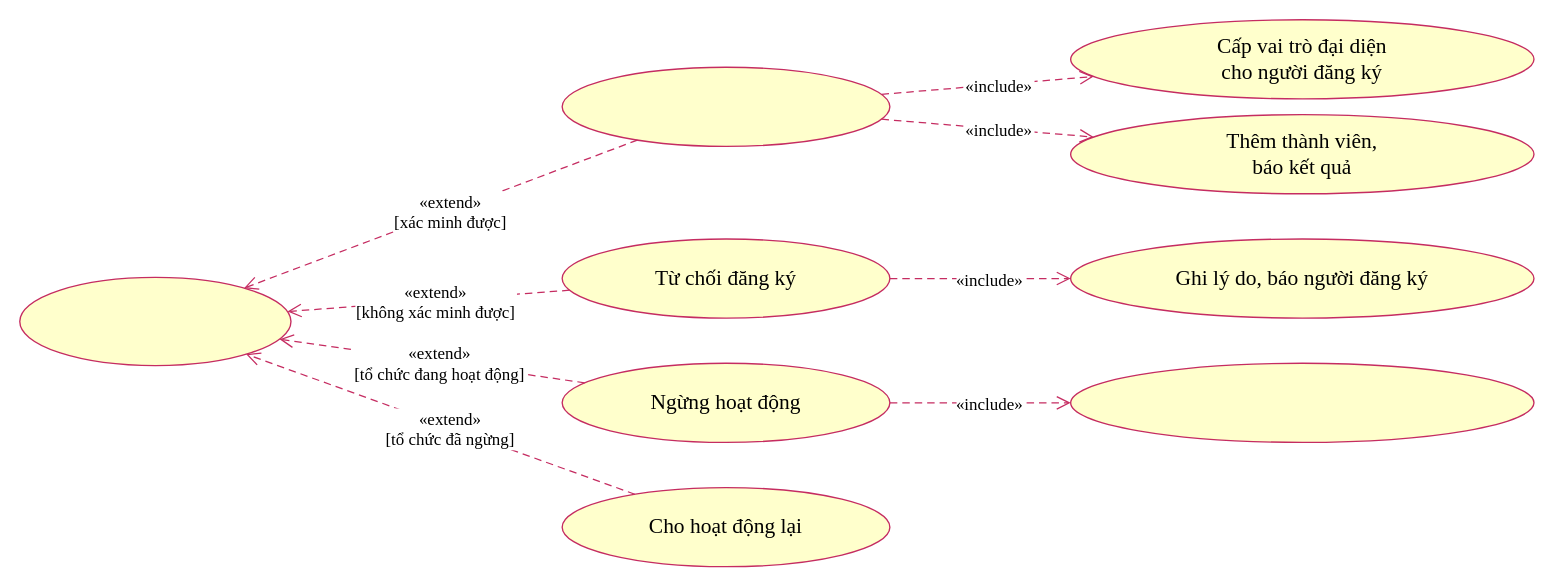
Some shapes in this 1555 by 588 pixel diagram are drawn without their labels. The centre of each missing label's shape, as x and y in pixels:
Duyệt tổ chức: (155,321)
Duyệt đăng ký: (725,106)
Ẩn các ca công khai của tổ chức: (1301,402)
